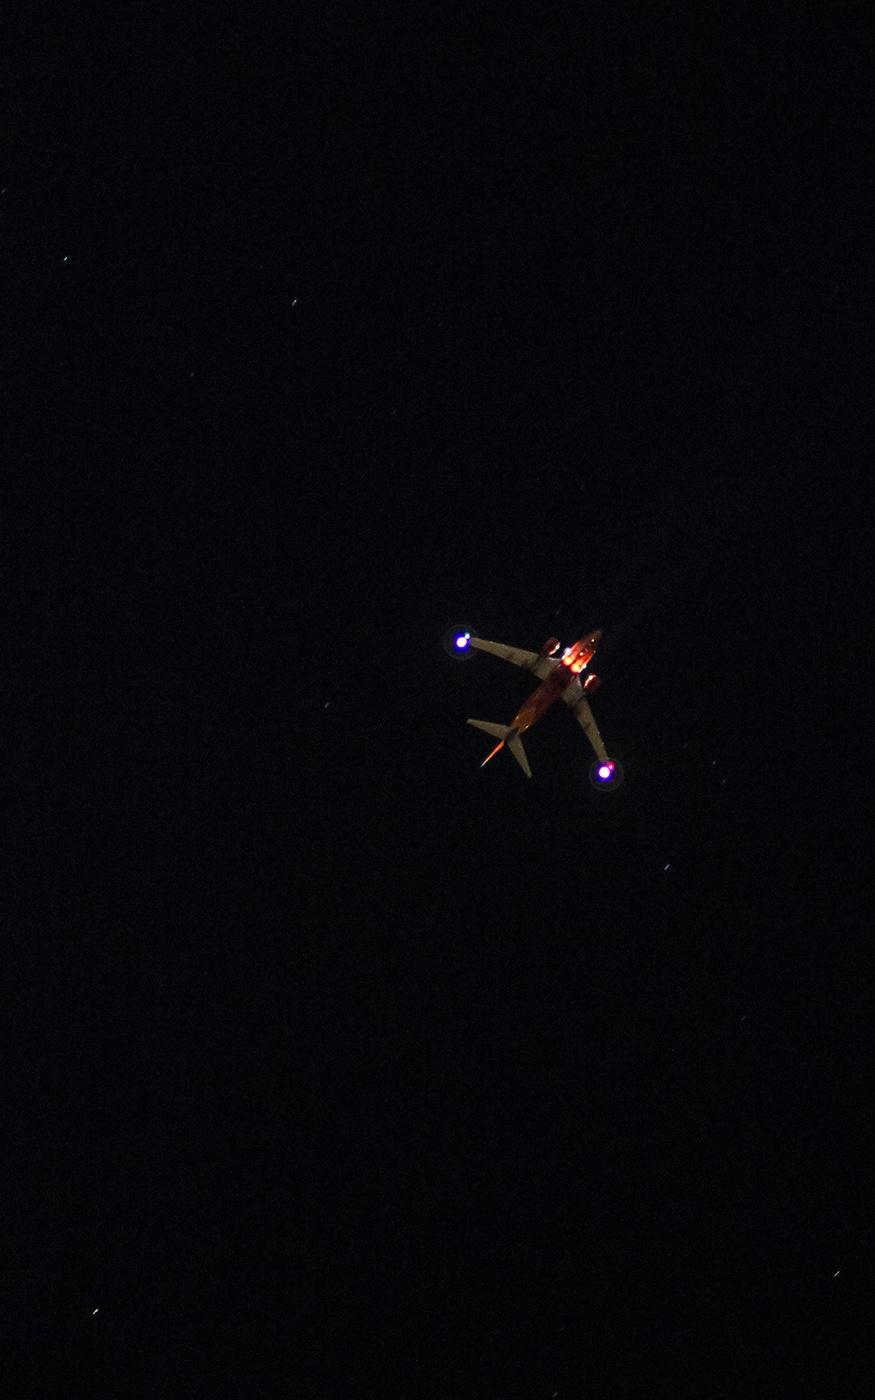Plane: (425, 532, 672, 797)
